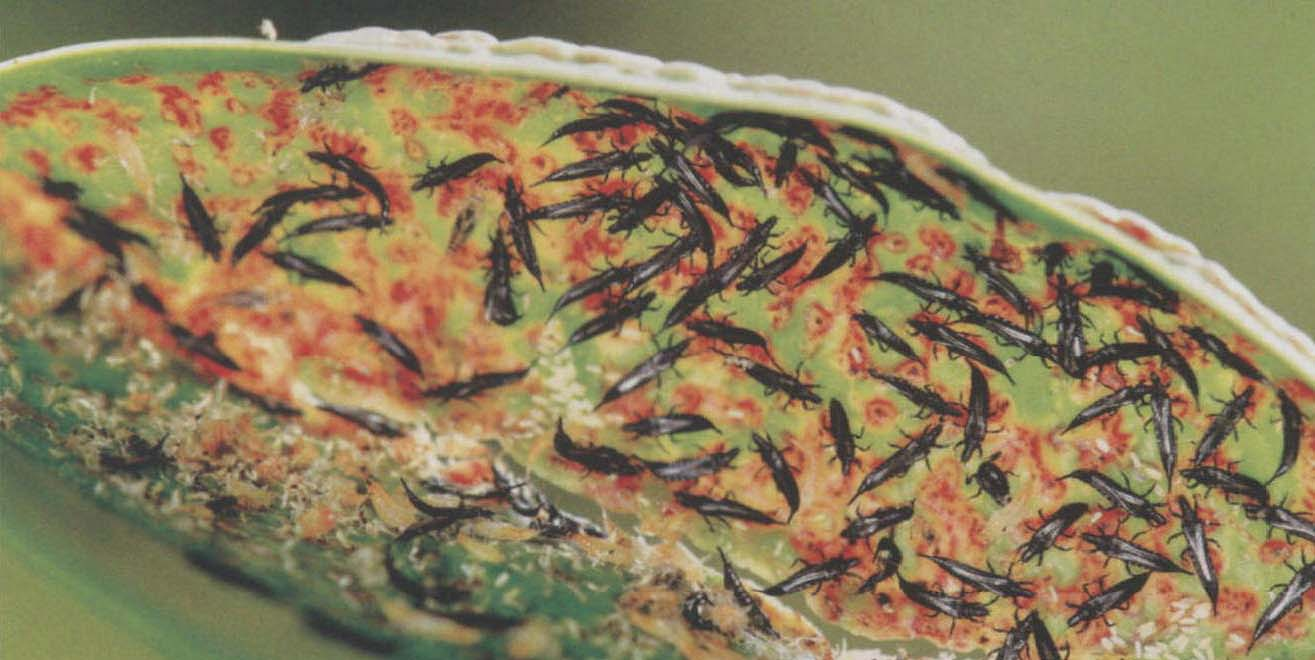Phlaeothripidae: (590, 329, 696, 414), (678, 111, 772, 200), (1168, 493, 1225, 638), (845, 419, 945, 501), (555, 282, 669, 353), (923, 538, 1038, 608), (303, 136, 392, 222), (372, 542, 485, 607), (870, 148, 961, 228), (1063, 466, 1167, 533), (643, 133, 729, 213), (756, 547, 861, 612), (709, 547, 782, 640), (703, 105, 841, 154), (1130, 309, 1199, 406), (1183, 386, 1262, 467), (1065, 566, 1160, 633), (896, 571, 998, 633), (852, 366, 959, 425), (552, 414, 642, 482), (545, 254, 633, 321), (168, 163, 226, 264), (722, 349, 824, 406), (668, 248, 741, 326), (1061, 378, 1155, 437), (411, 140, 506, 198), (418, 359, 532, 407), (393, 474, 500, 524), (962, 309, 1056, 365), (742, 431, 803, 517), (1045, 278, 1095, 380), (959, 246, 1036, 311), (590, 87, 682, 141), (832, 155, 901, 225), (160, 318, 243, 376), (350, 310, 425, 374), (537, 144, 654, 185), (856, 303, 924, 373), (1068, 336, 1157, 389), (530, 108, 651, 146), (865, 273, 968, 317), (1194, 322, 1263, 385), (267, 248, 361, 294), (255, 175, 367, 213), (825, 494, 913, 542), (954, 357, 991, 465), (1271, 389, 1311, 486), (639, 445, 734, 485), (795, 172, 865, 226), (1154, 378, 1192, 477), (505, 167, 534, 294), (278, 208, 402, 236), (615, 411, 719, 442), (488, 224, 514, 333)
